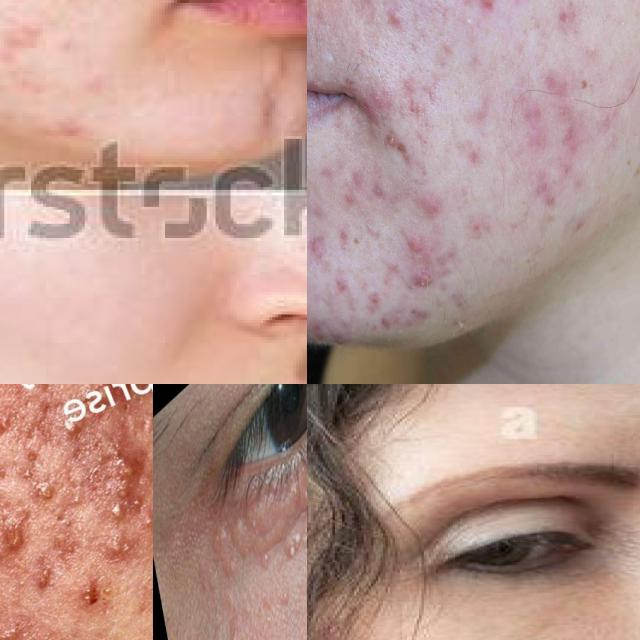keloid: (1, 507, 41, 555)
milium: (275, 525, 307, 582), (300, 482, 307, 518)
papule: (395, 232, 447, 324)
pustule: (379, 4, 416, 39), (384, 125, 406, 163), (9, 625, 56, 640), (370, 78, 386, 116)
sebo-crystan-conglo: (63, 432, 153, 547)
syringoma: (200, 520, 242, 603), (229, 498, 266, 566), (270, 467, 307, 525)
